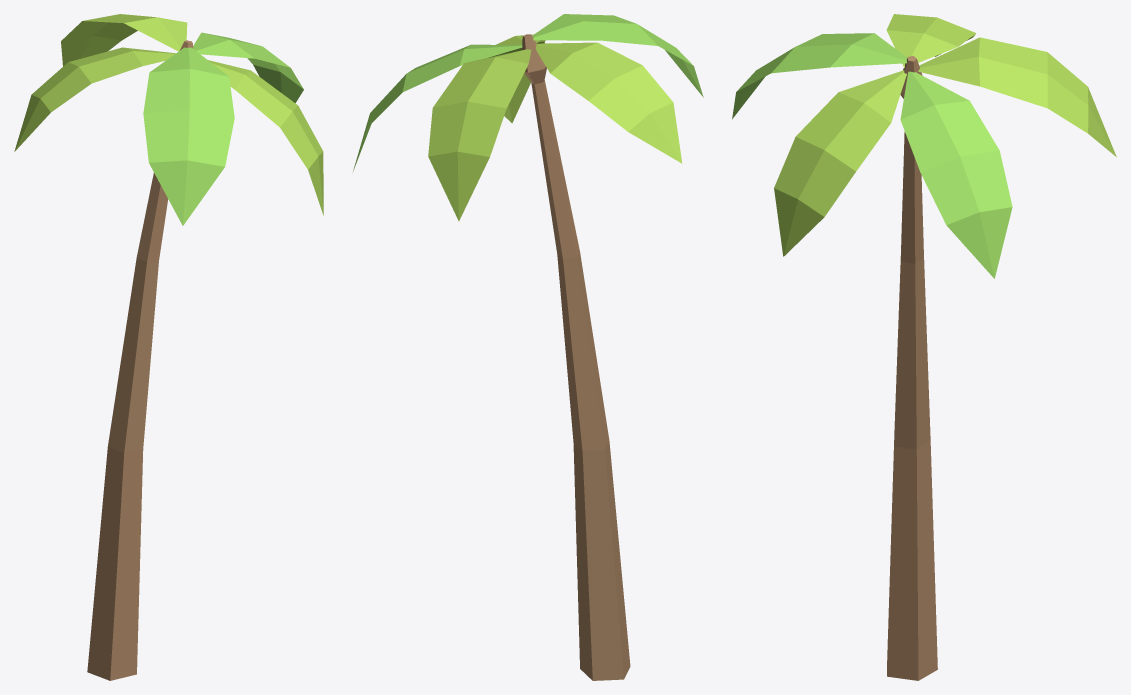
File: Palm_Tree_s_02.fbx
3 renders of one model, left to right at view 1: azimuth 30°, elevation 25°; view 2: azimuth 150°, elevation 25°; view 3: azimuth 270°, elevation 25°, orthographic. The views are drawn at different scales.
Visible parts, largest first — view 1: Palm_Tree_s_02; view 2: Palm_Tree_s_02; view 3: Palm_Tree_s_02.
Boxes of the visible parts, x1=… form: Palm_Tree_s_02: x1=14, y1=14, x2=323, y2=680; Palm_Tree_s_02: x1=353, y1=14, x2=703, y2=680; Palm_Tree_s_02: x1=732, y1=14, x2=1116, y2=680.
Bounding box in the file's own units: 243 × 478 × 255.
